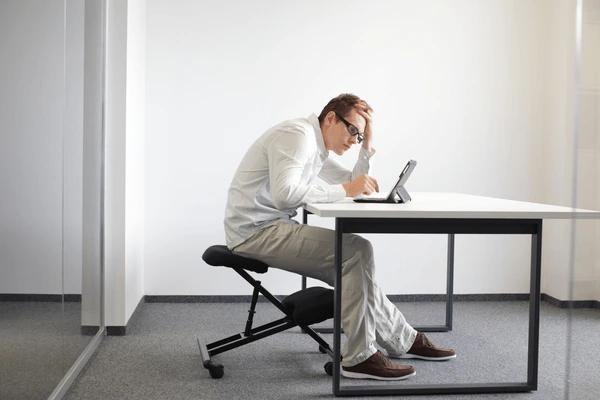Bad Sitting Posture: (191, 38, 463, 283)
